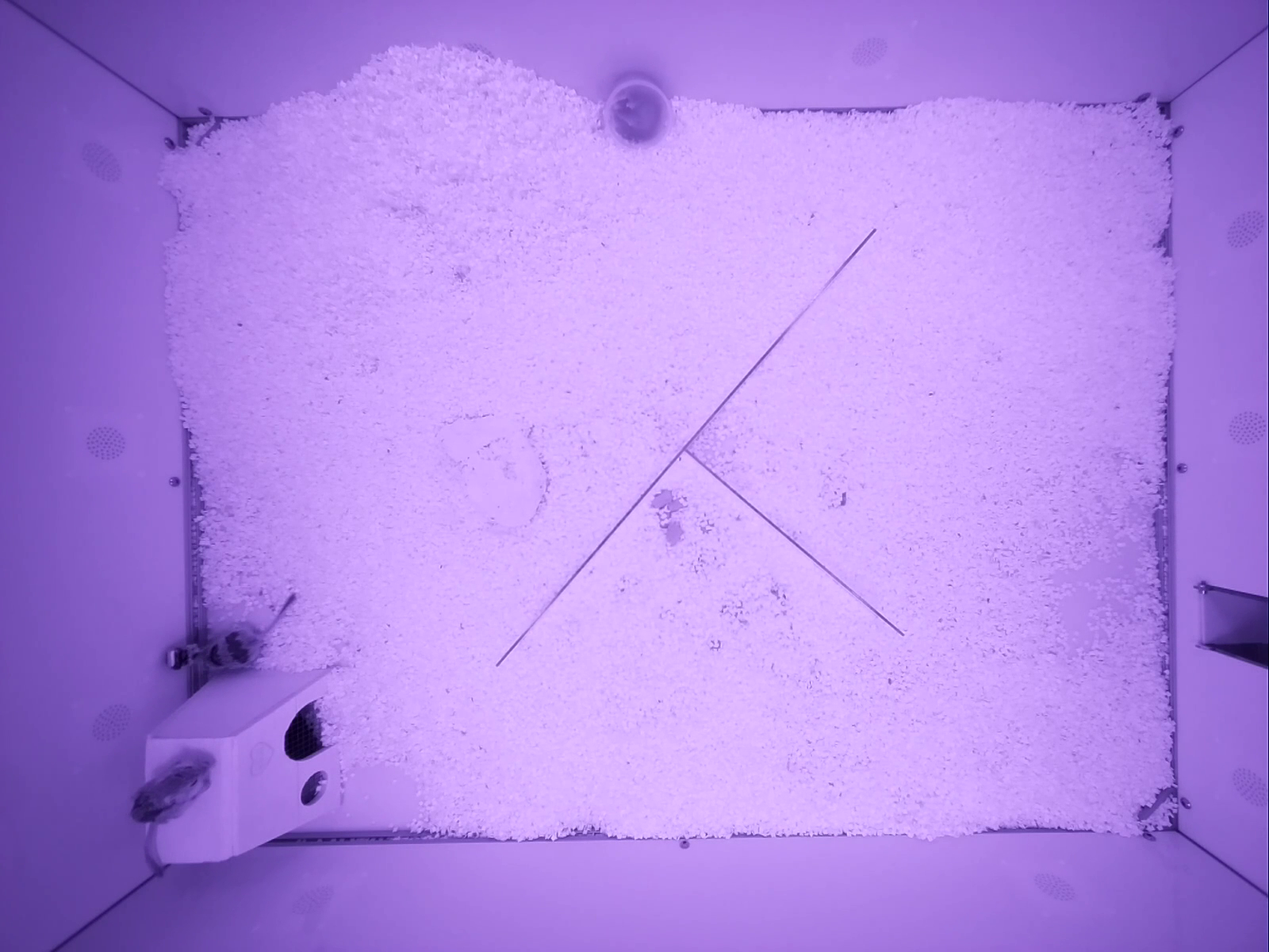adult_back: (202, 593, 296, 670), (131, 750, 214, 824)
